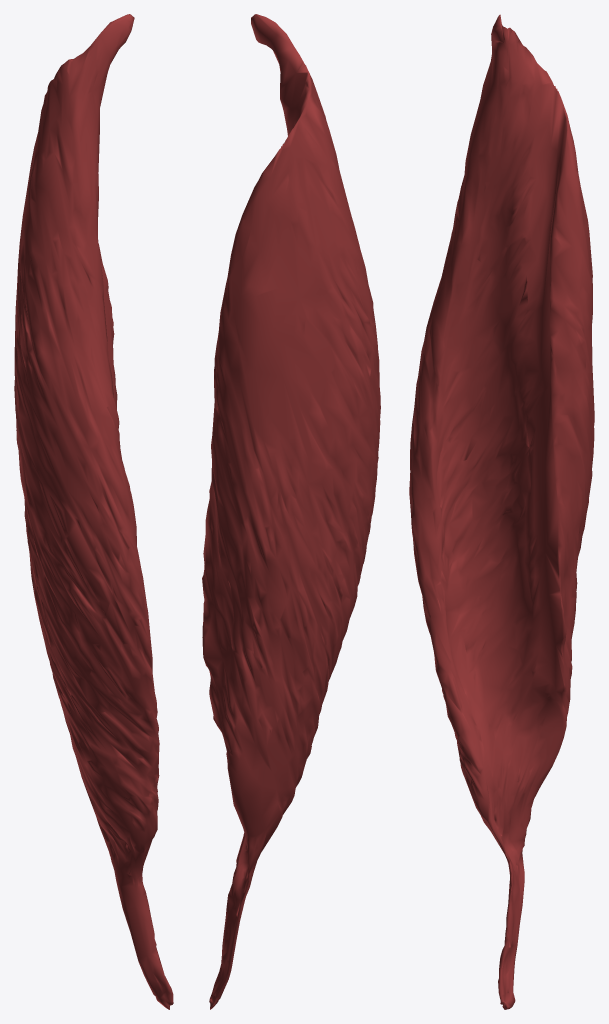
Rendered from vastus-lateralis-muscle-r.glb.
The picture shows the model from 3 angles, left to right: view 1: azimuth 30°, elevation 25°; view 2: azimuth 150°, elevation 25°; view 3: azimuth 270°, elevation 25°; orthographic projection. The views are drawn at different scales.
Visible parts, largest first — view 1: Vastus lateralis muscle.r; view 2: Vastus lateralis muscle.r; view 3: Vastus lateralis muscle.r.
Boxes of the visible parts, bbox=[...] form: Vastus lateralis muscle.r: bbox=[14, 14, 173, 1009]; Vastus lateralis muscle.r: bbox=[202, 14, 380, 1009]; Vastus lateralis muscle.r: bbox=[409, 14, 594, 1009].
Bounding box in the file's own units: 0.074 × 0.4574 × 0.0792.
